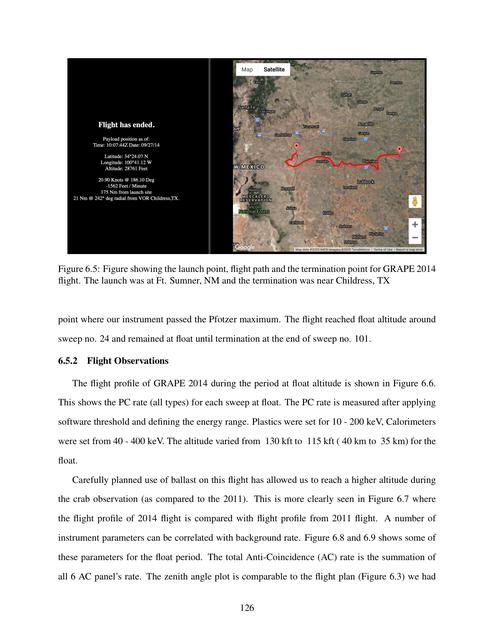box: (65, 56, 430, 257)
